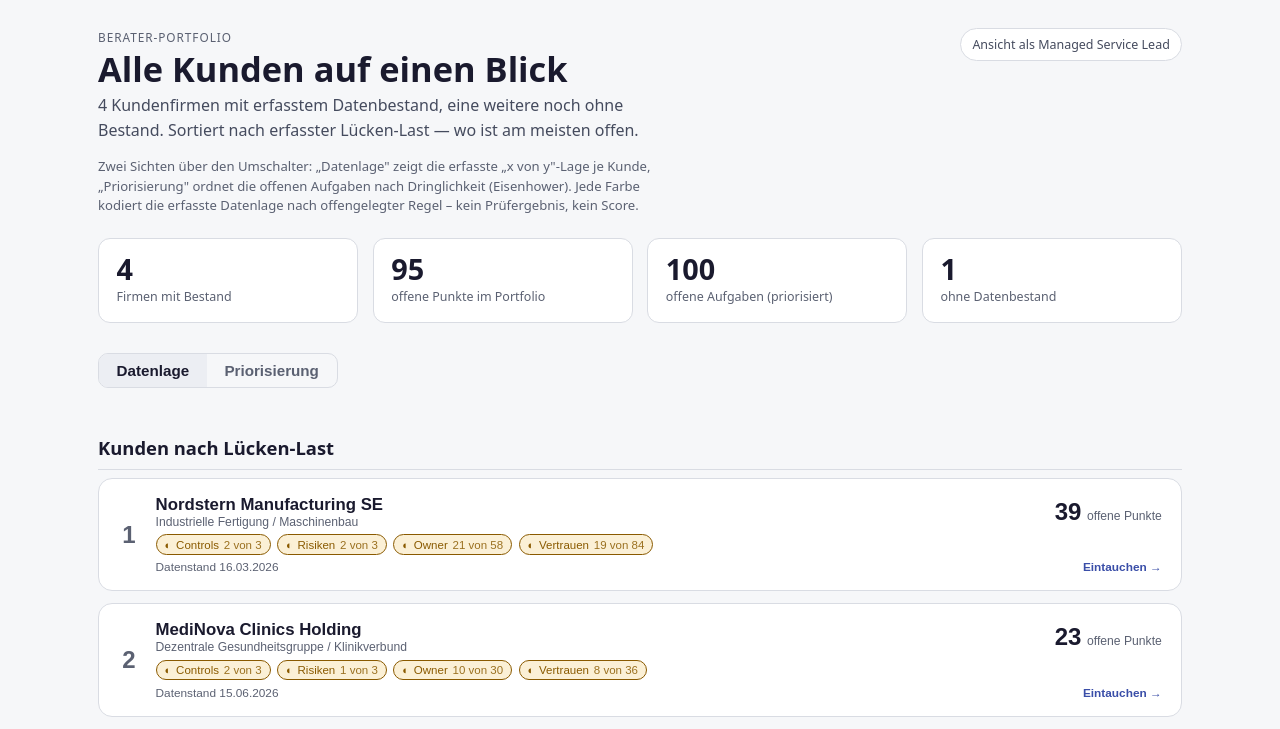
Test: PortfolioContent – Berater-Portfolio › trägt die Ehrlichkeitszeile (kein Prüfergebnis) und den Umschalter zur Eisenhower-Priorisierung
The image size is (1280, 729).
expect the text "kein Prüfergebnis" is shown: met, box [98,157,650,214]
expect the button "Datenlage" is shown: met, box [99,354,207,387]
// Umschalten → Eisenhower-Board, ehrlich als ABLEITUNG benannt (kein erfundener Wert), Regel sichtbar.
Click the button "Priorisierung" at x=272, y=371, box [207,354,336,387]
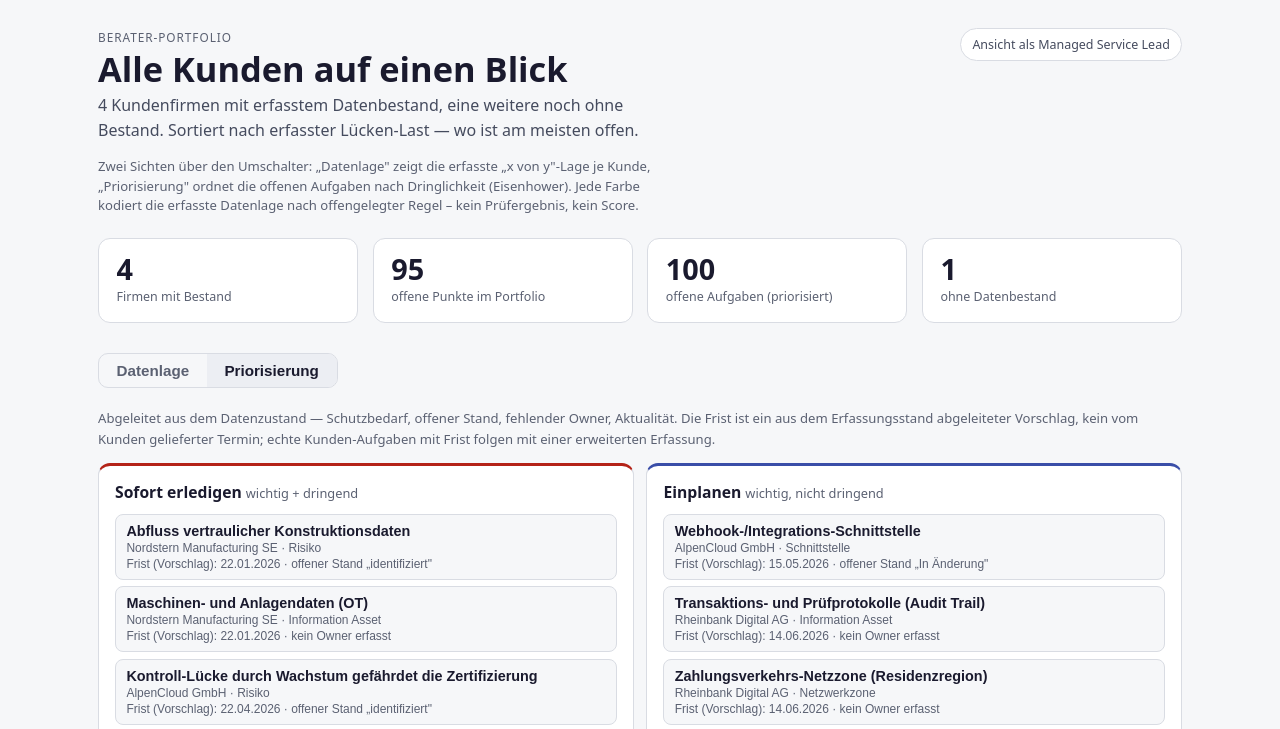
expect the heading "Sofort erledigen wichtig + dringend" is shown: met, box [115,481,358,503]
expect the text "abgeleiteter Vorschlag" is shown: met, box [98,409,1138,448]
